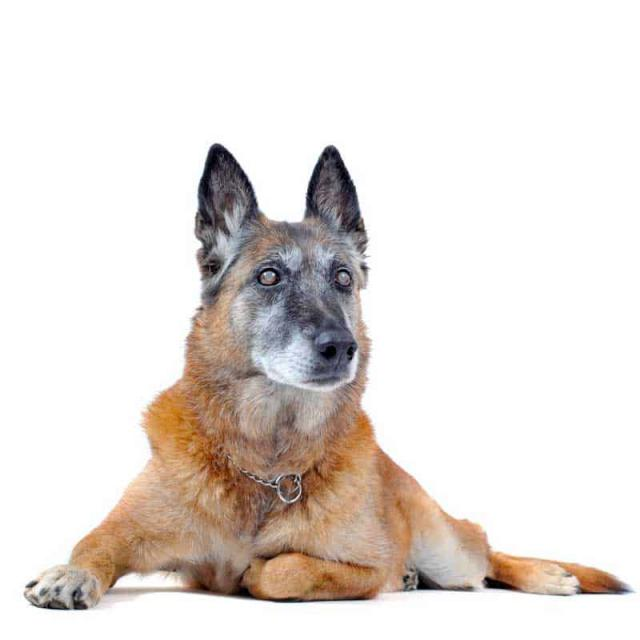eye: (254, 265, 286, 290), (333, 266, 355, 290)
